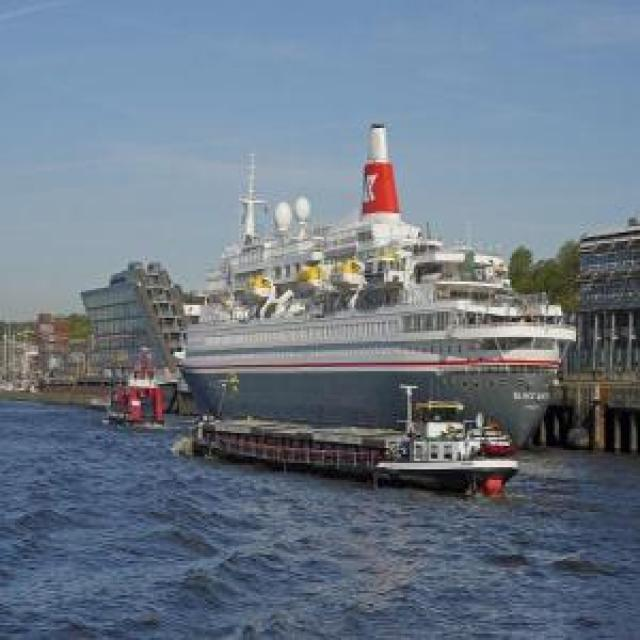cargoship: (180, 391, 519, 504)
passenger ship: (178, 213, 560, 440)
